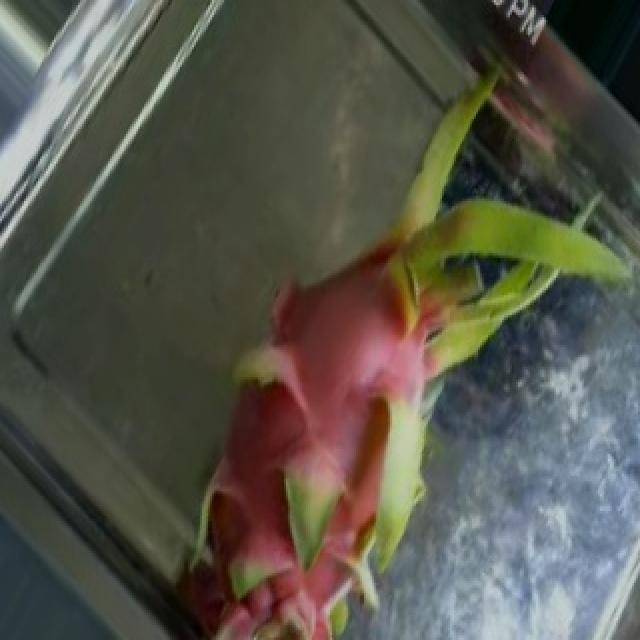fruit: (226, 5, 640, 407), (80, 230, 382, 638)
